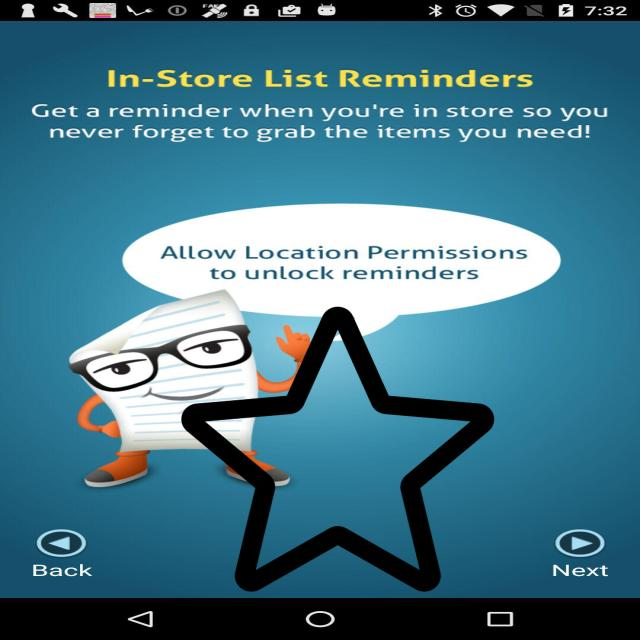forced continuity: (182, 300, 494, 598)
